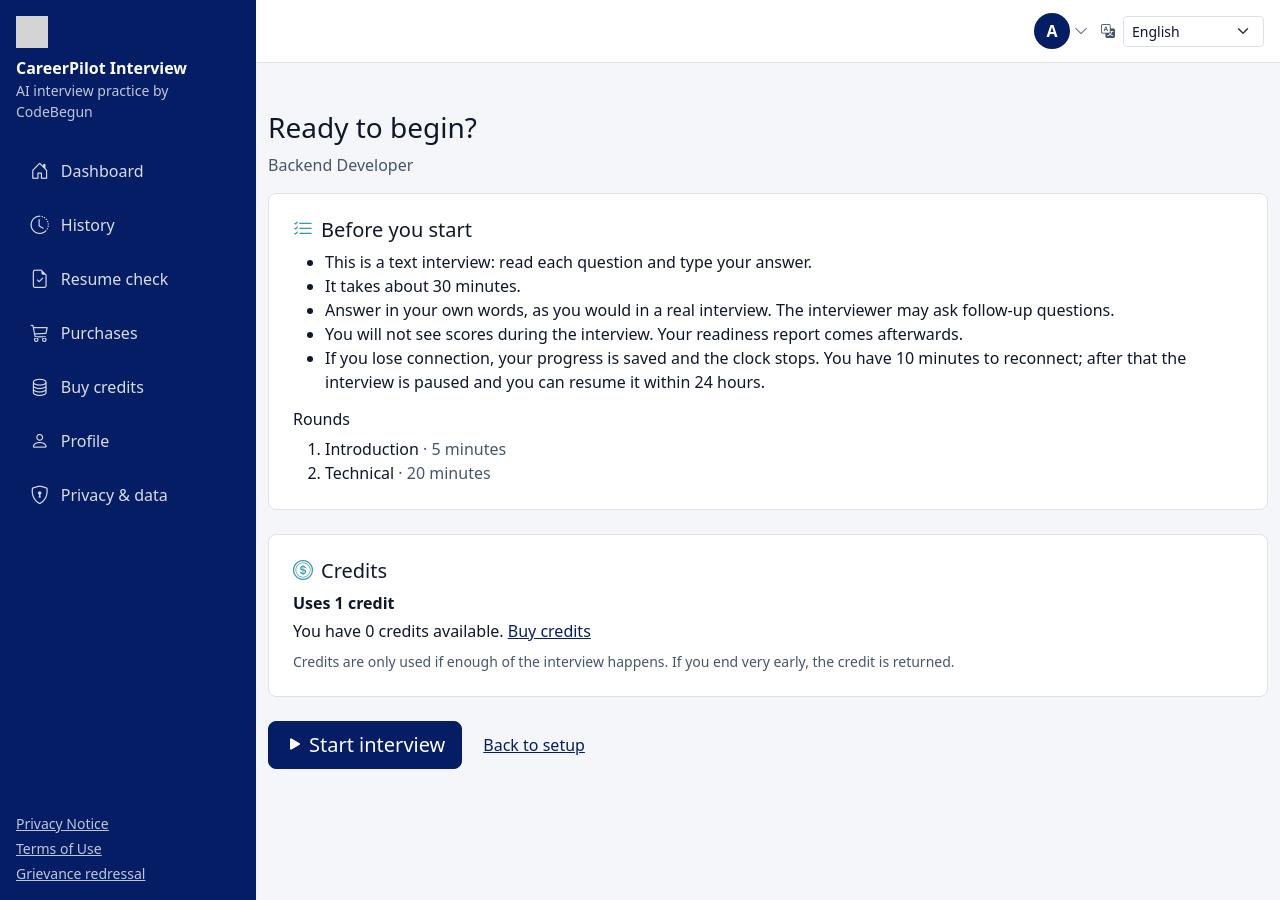
Test: start screen › points to the dashboard when another interview is in progress
The image size is (1280, 900).
Click the button "Start interview".
click(365, 745)  # box [268,721,462,769]
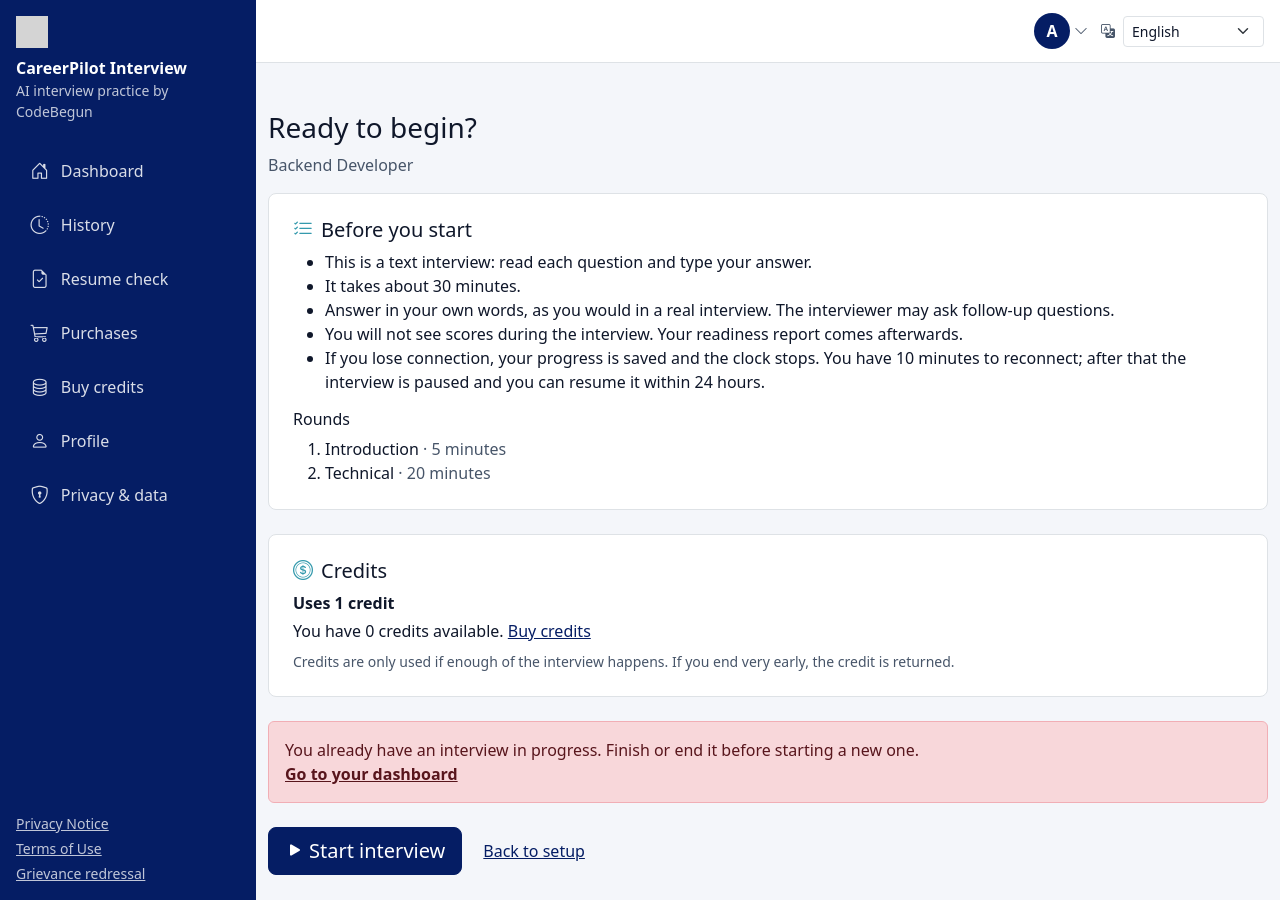
expect the message shows "You already have an interview in progress": met, box [285,739,919,761]
